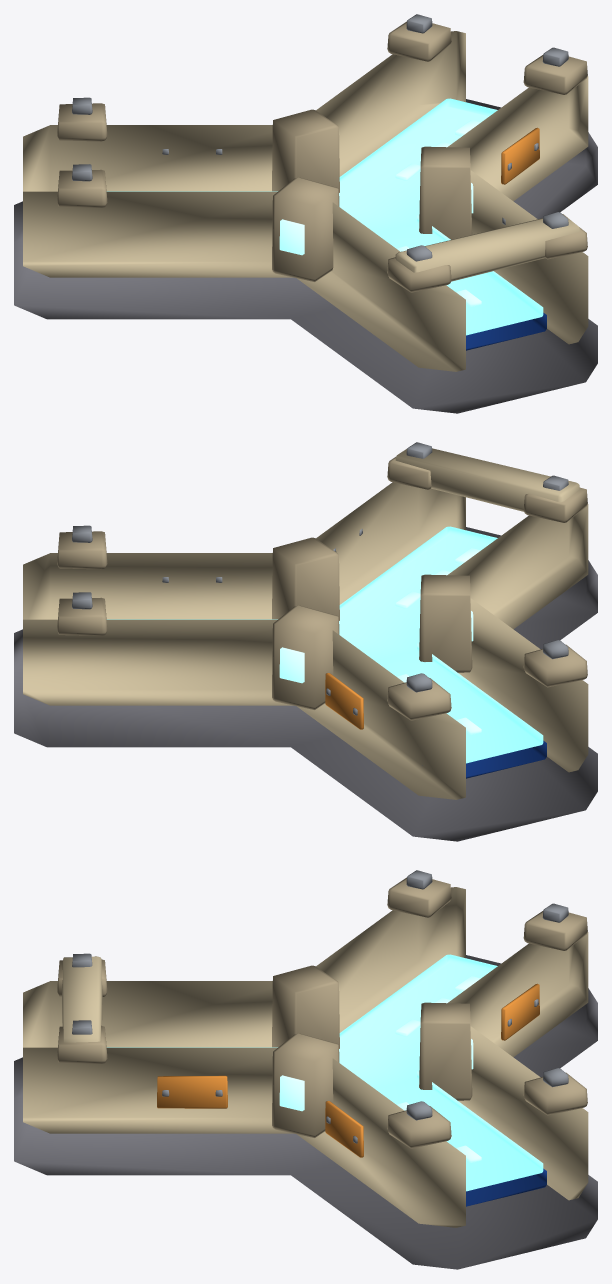
The model's file is OBJ11_sql_query_y.glb.
3 renders of one model, top to bottom at view 1: azimuth 30°, elevation 25°; view 2: azimuth 150°, elevation 25°; view 3: azimuth 270°, elevation 25°, orthographic.
Parts seen in each view (by area): view 1: Wall_0, BaseSlab, Wall_2, Wall_1, FlowSurface, OutputLintel, CornerPillar_150, CornerPillar_270, CornerPillar_30, EndCap_2_1, EndCap_2_-1, EndCap_1_1 (+7 smaller); view 2: Wall_2, BaseSlab, Wall_1, Wall_0, FlowSurface, OutputLintel, CornerPillar_270, CornerPillar_150, CornerPillar_30, EndCap_1_-1, EndCap_1_1, EndCap_2_1 (+7 smaller); view 3: BaseSlab, Wall_1, Wall_0, Wall_2, FlowSurface, CornerPillar_30, CornerPillar_270, CornerPillar_150, OutputLintel, Plate, EndCap_2_-1, EndCap_1_1 (+8 smaller).
Boxes of the visible parts, x1,y1,x2,y2 form: Wall_0: (23,191,465,371); BaseSlab: (14,99,597,413); Wall_2: (23,31,465,191); Wall_1: (447,76,588,344); FlowSurface: (107,98,543,335); OutputLintel: (395,214,579,281); CornerPillar_150: (272,177,339,281); CornerPillar_270: (272,109,339,192); CornerPillar_30: (419,146,472,239); EndCap_2_1: (523,55,587,94); EndCap_2_-1: (387,21,451,61); EndCap_1_1: (57,103,107,141); Wall_2: (23,619,465,799); BaseSlab: (14,527,597,841); Wall_1: (23,482,465,619); Wall_0: (447,504,588,772); FlowSurface: (107,526,543,763); OutputLintel: (395,448,579,511); CornerPillar_270: (272,605,339,709); CornerPillar_150: (419,574,472,672); CornerPillar_30: (272,537,339,620); EndCap_1_-1: (523,644,587,687); EndCap_1_1: (387,678,451,720); EndCap_2_1: (57,531,107,569); BaseSlab: (14,955,597,1269); Wall_1: (23,1047,465,1227); Wall_0: (23,887,465,1047); Wall_2: (447,932,588,1200); FlowSurface: (107,954,543,1191); CornerPillar_30: (272,1033,339,1137); CornerPillar_270: (419,1002,472,1100); CornerPillar_150: (272,965,339,1048); OutputLintel: (62,956,102,1042); Plate: (157,1075,227,1108); EndCap_2_-1: (523,1072,587,1115); EndCap_1_1: (523,911,587,950).
Size of the model in its own units: 2.22 by 0.52 by 1.97.
